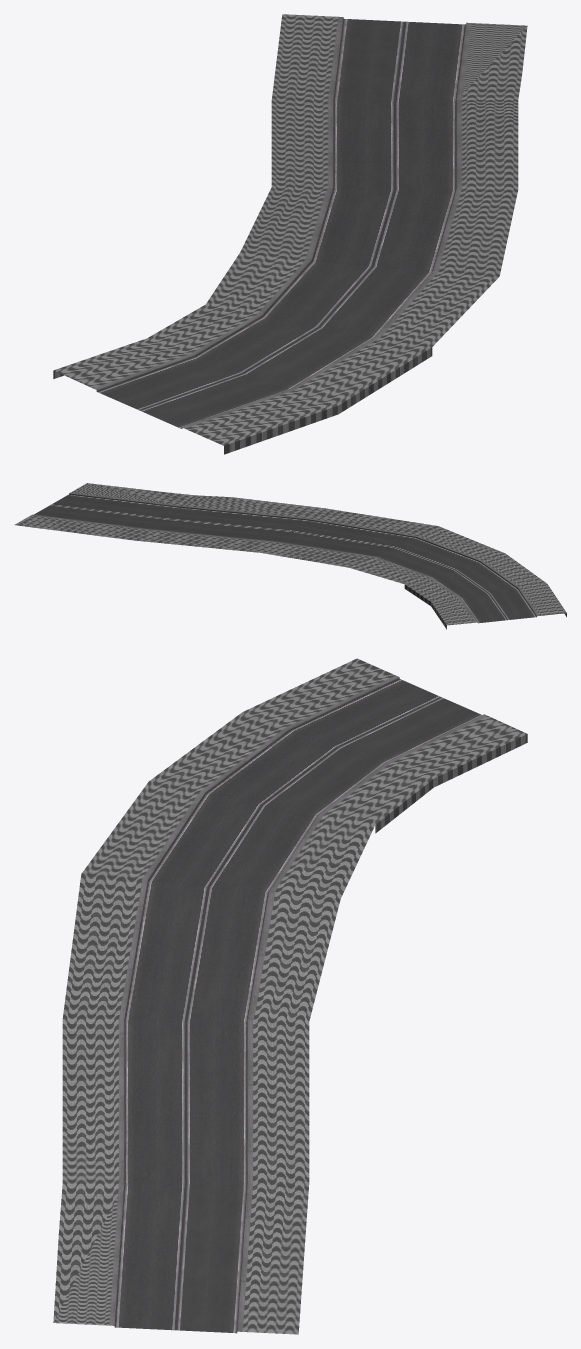
File: road_sfw45.obj
The picture shows the model from 3 angles, top to bottom: view 1: azimuth 90°, elevation 25°; view 2: azimuth 150°, elevation 25°; view 3: azimuth 270°, elevation 25°; orthographic projection. The views are drawn at different scales.
Visible parts, largest first — view 1: road_SFW45; view 2: road_SFW45; view 3: road_SFW45.
Boxes of the visible parts, x1=… form: road_SFW45: x1=53, y1=14, x2=527, y2=454; road_SFW45: x1=14, y1=483, x2=566, y2=629; road_SFW45: x1=53, y1=658, x2=527, y2=1334.
Size of the model in its own units: 106 by 11.08 by 38.46.
Materials: 2 (2 with a texture image).
